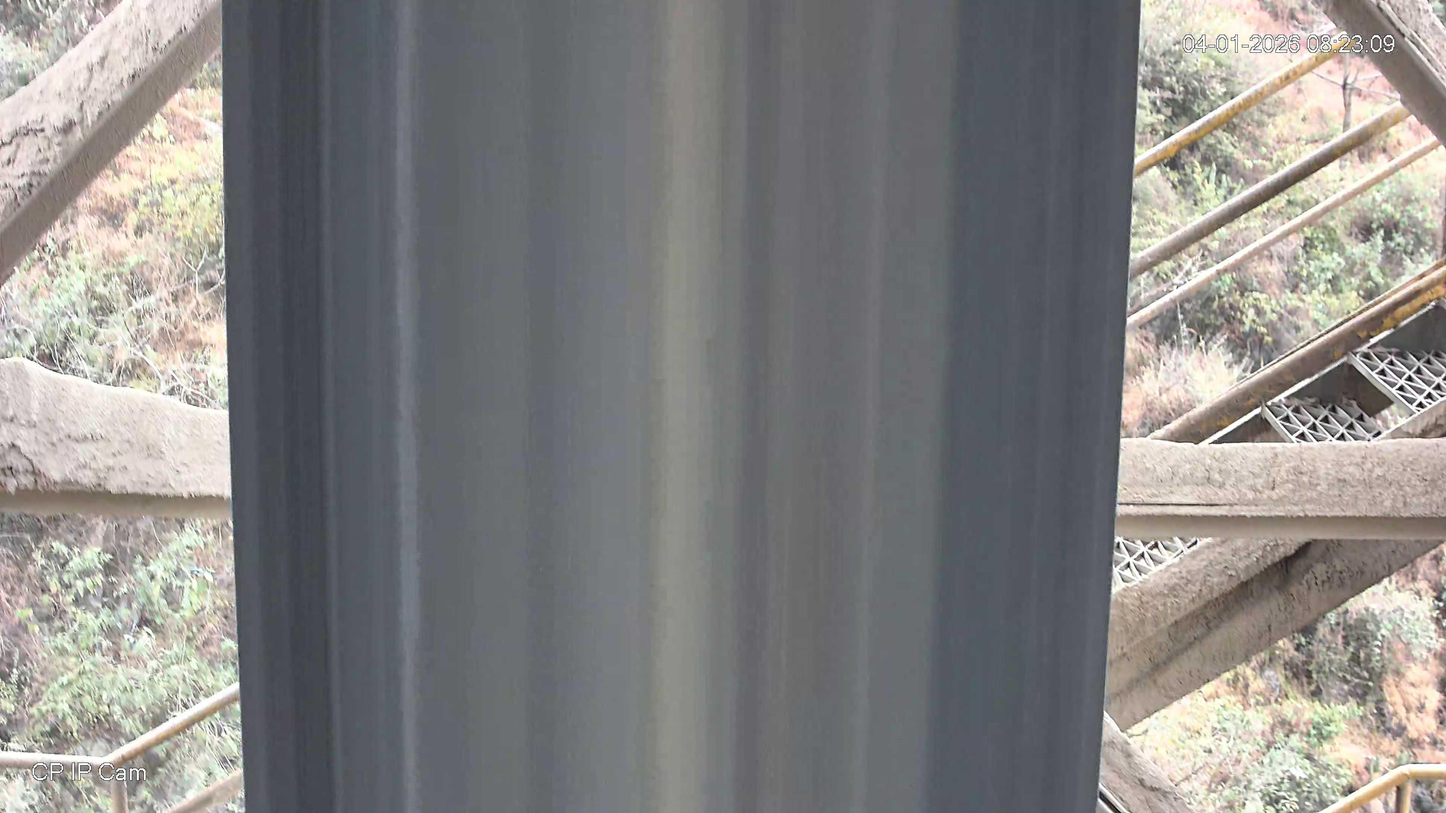belt_roi: (223, 0, 1142, 813)
